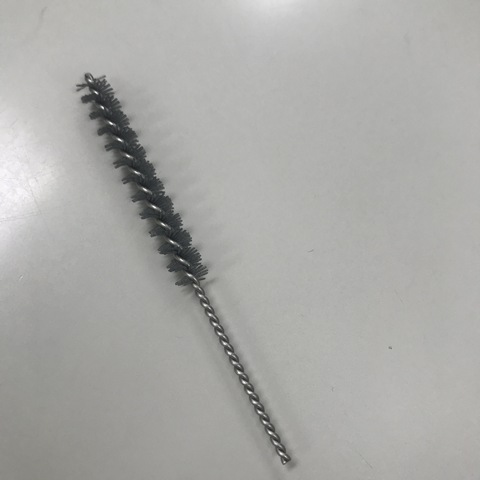Twist Brush-A: (70, 68, 295, 467)
